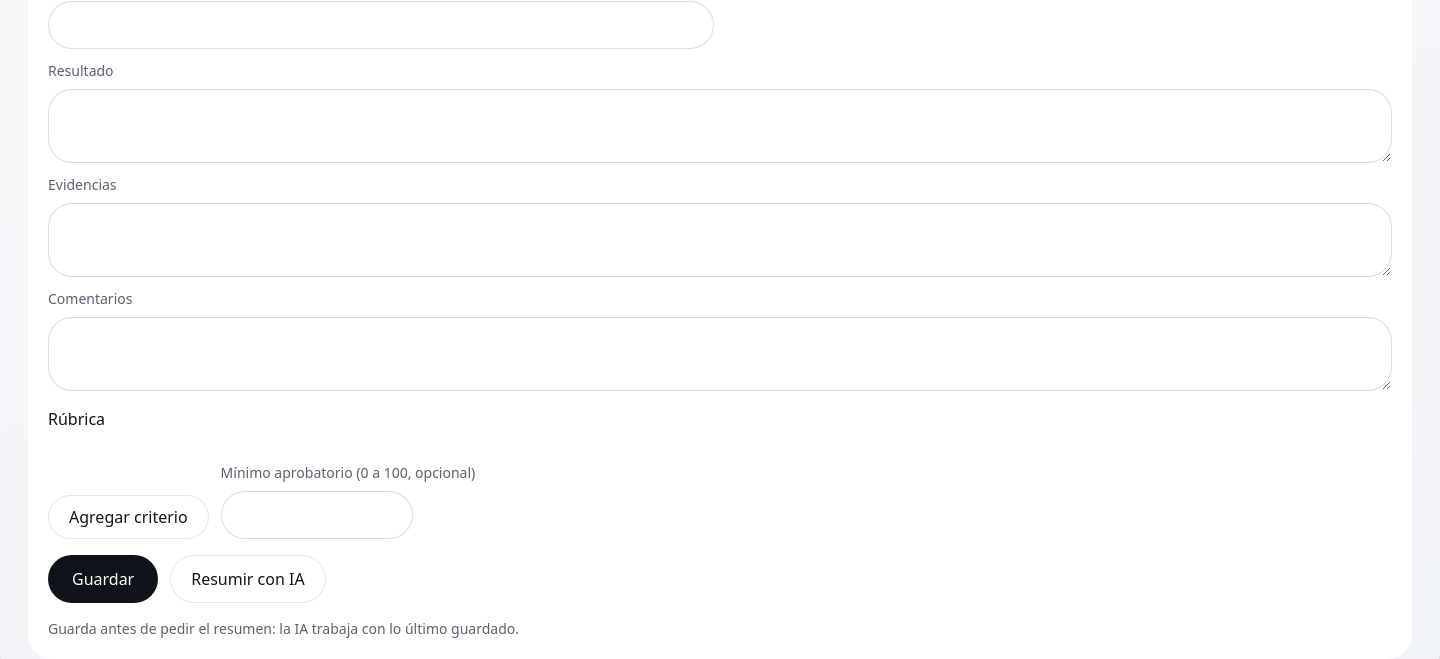
it: AssessmentsSection › registra una prueba técnica, captura la rúbrica y muestra la calificación calculada
Earlier steps of the test are not shown.
(page scrolled)
Click the button "Agregar criterio" at [128, 517], box [48,495,209,539]
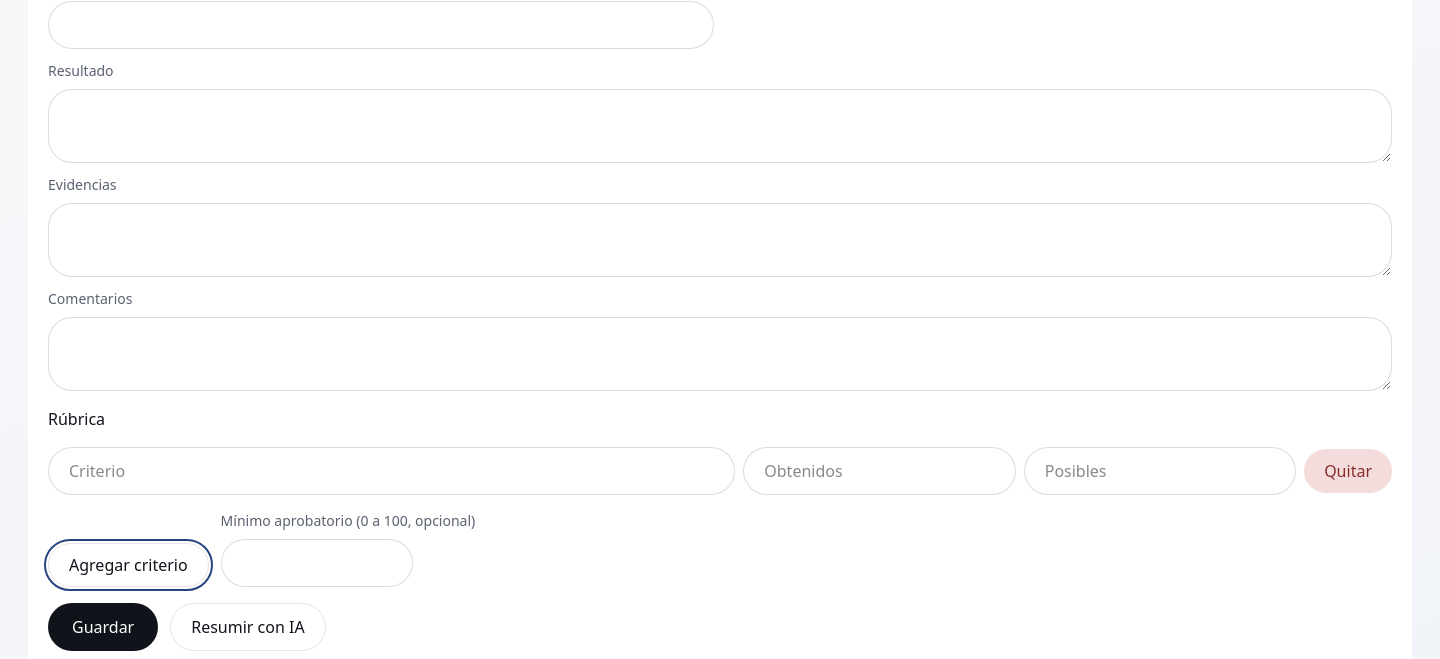
Type "Fórmulas" into the field named "Criterio 1" at [392, 471], box [48,447,735,495]
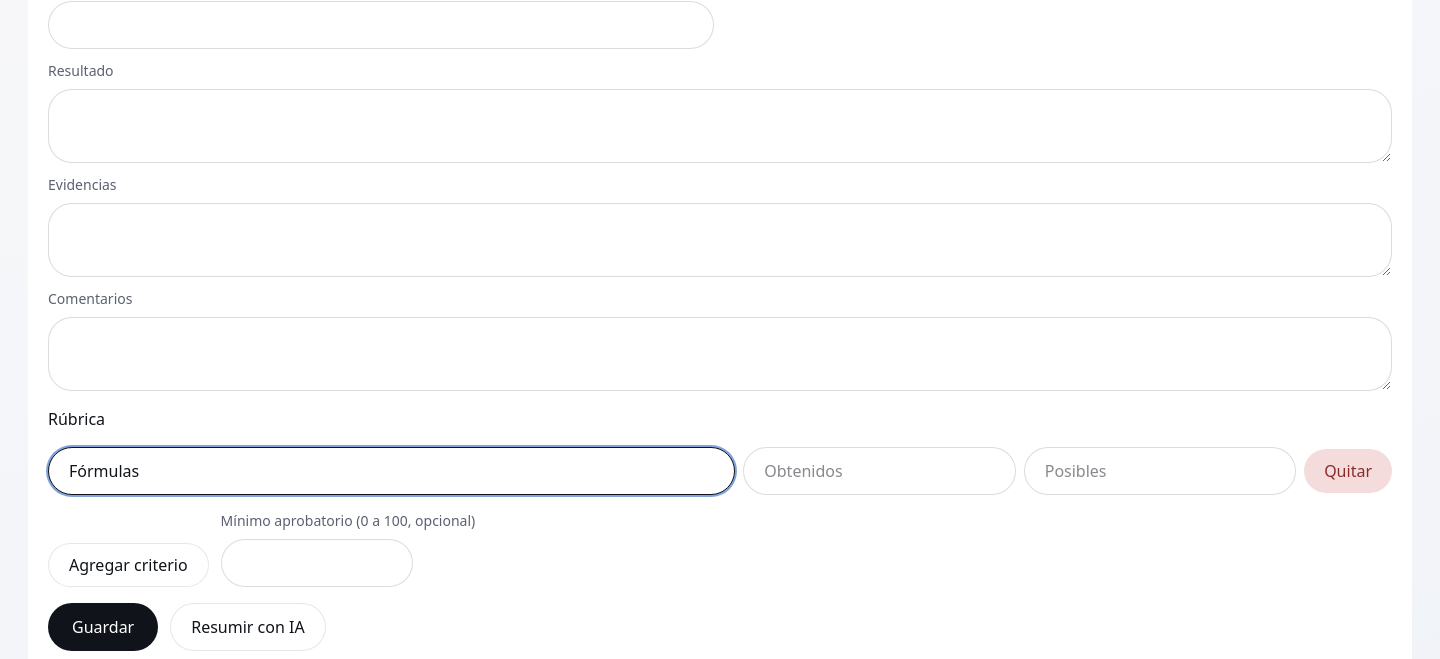
Type "3" into the field named "Puntos obtenidos del criterio 1" at [880, 471], box [743,447,1016,495]
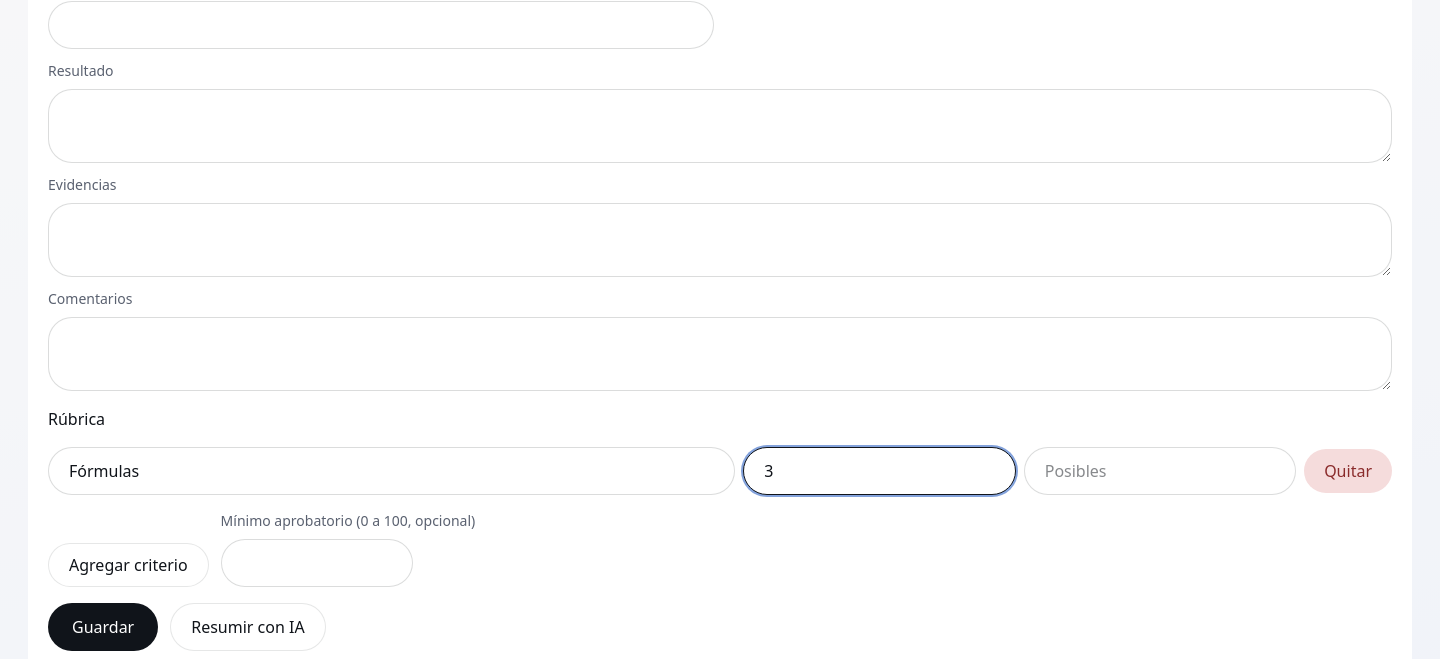
Type "4" into the field named "Puntos posibles del criterio 1" at [1160, 471], box [1024,447,1296,495]
(page scrolled)
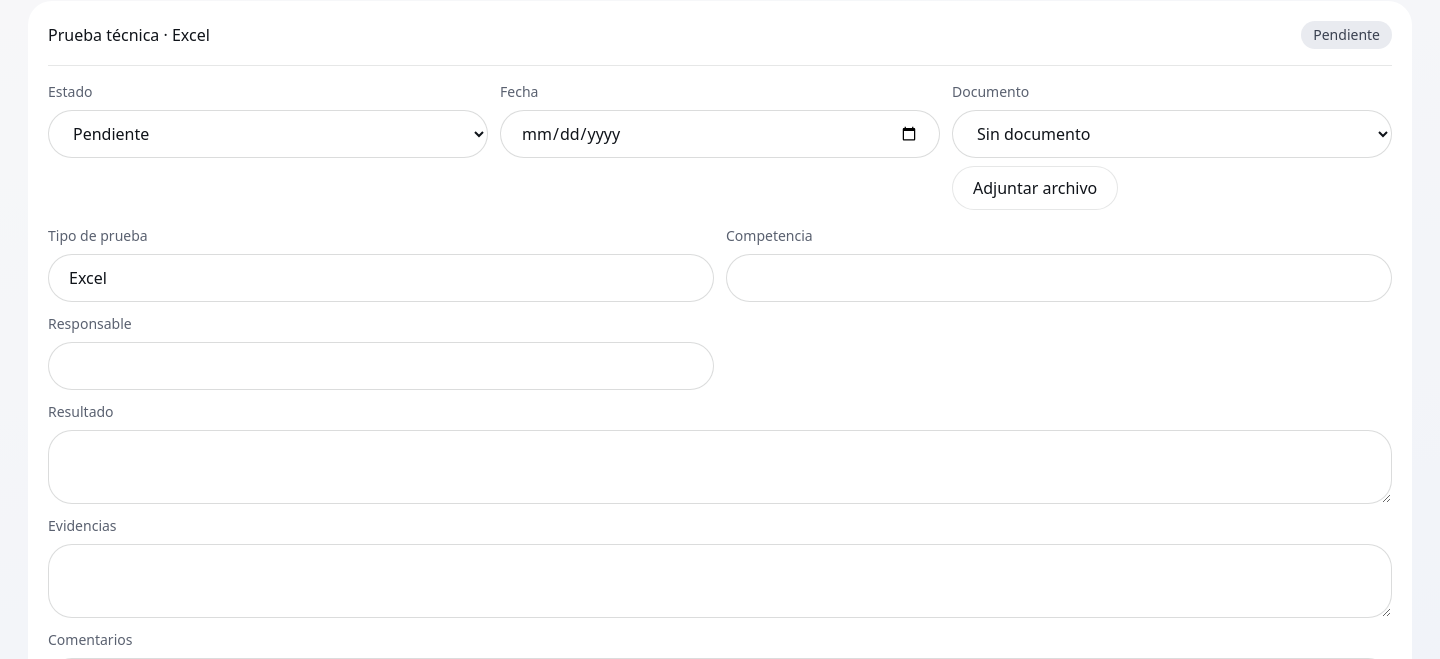
Select "Realizada" in the dropdown labelled "Estado" at [268, 134], box [48,110,488,158]
(page scrolled)
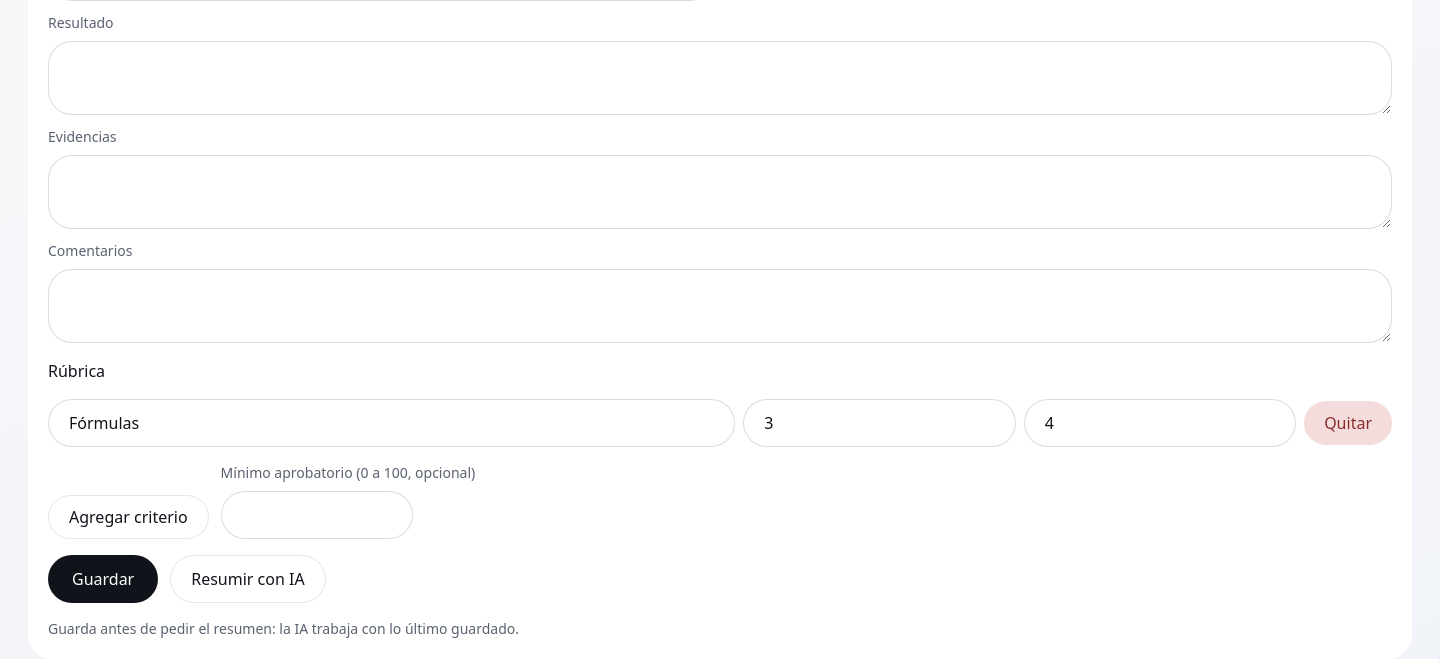
Click the button "Guardar" at [103, 579], box [48,555,158,603]
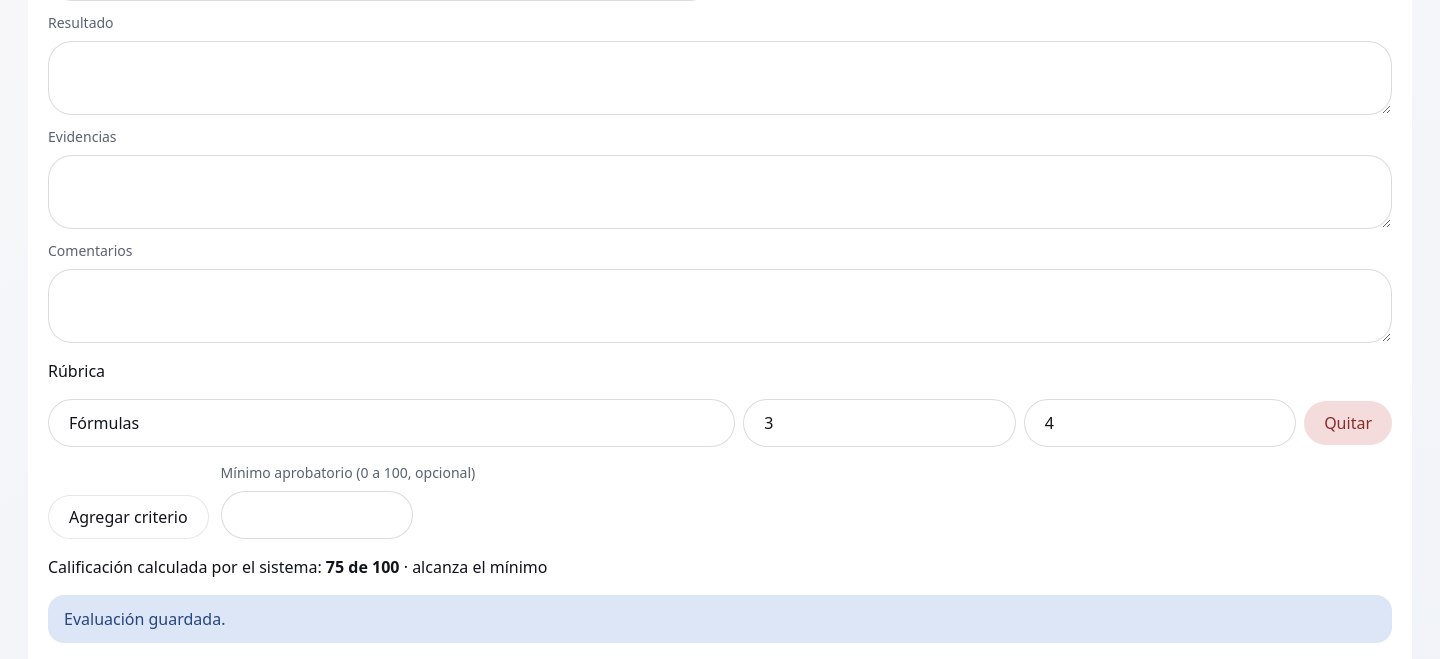
Now the text "Calificación calculada por el sistema" is shown, box [48,556,326,578]
Now the text "alcanza el mínimo" is shown, box [400,556,548,578]
